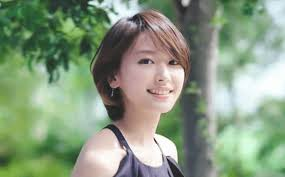person: (67, 10, 190, 177)
